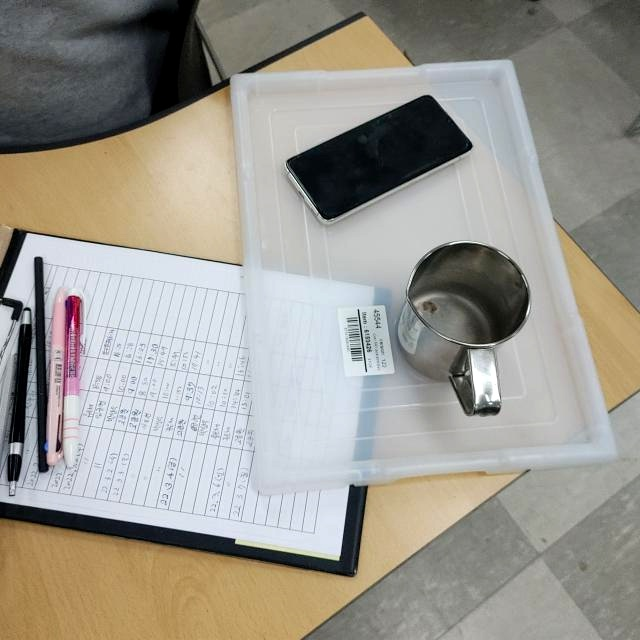cup: (396, 240, 532, 422)
phone: (281, 92, 471, 224)
